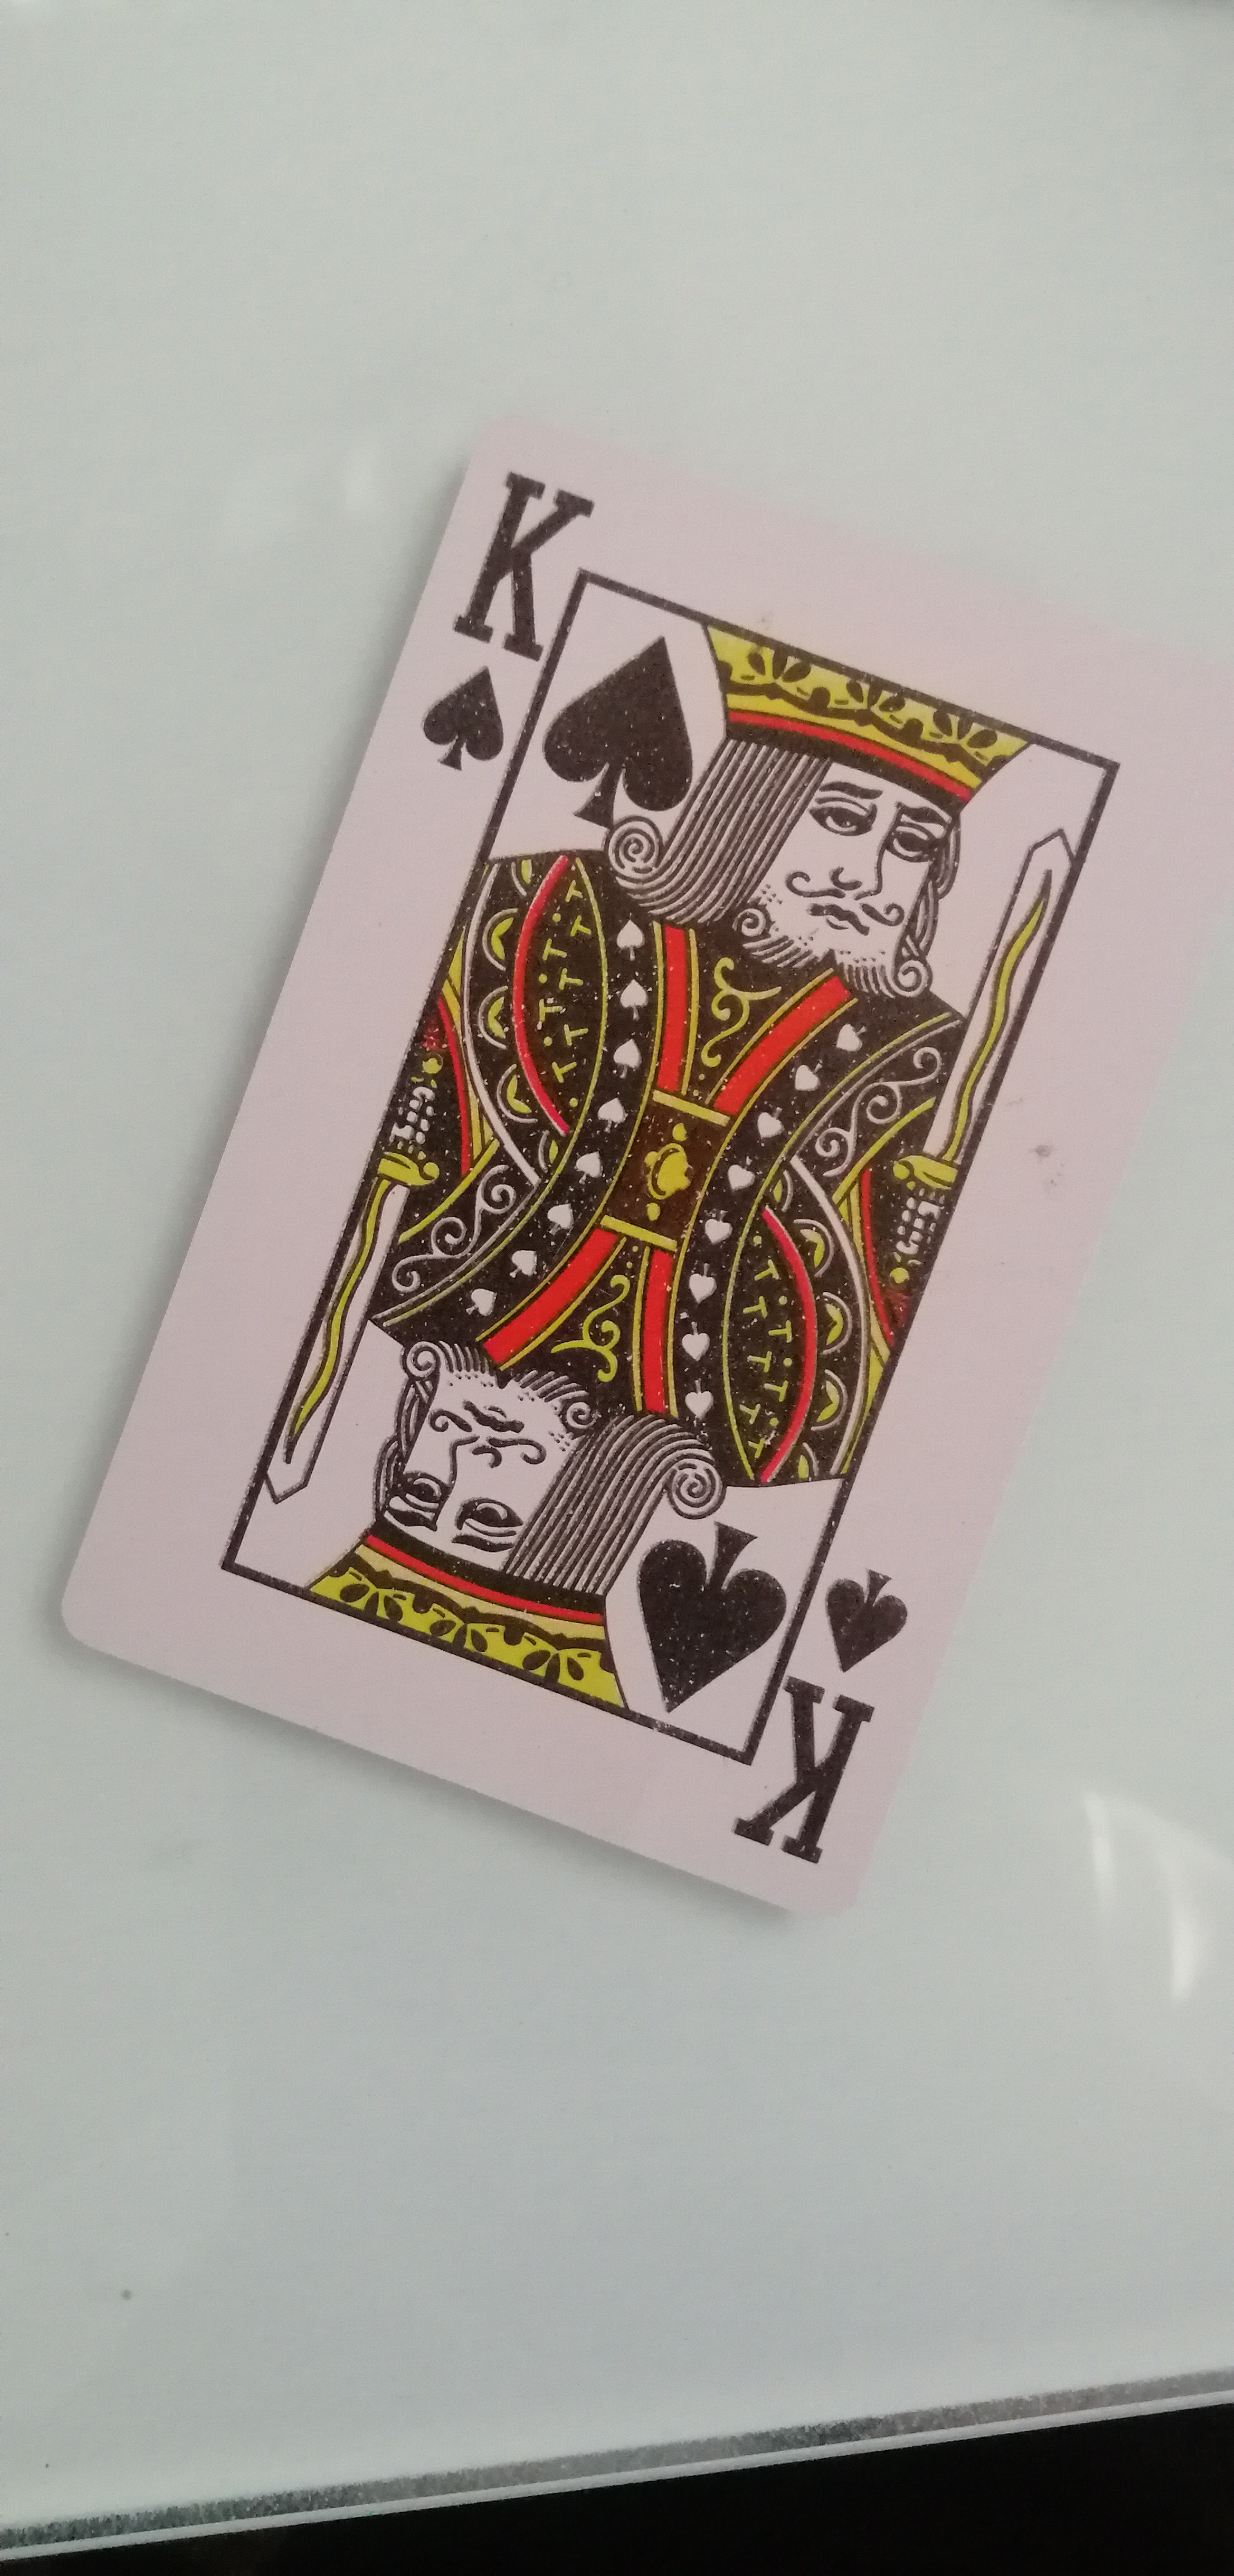king: (51, 412, 1221, 1930)
